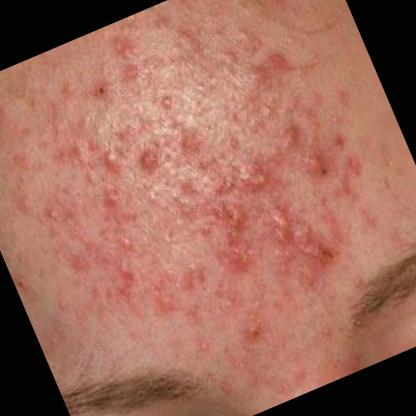Acne: (226, 147, 277, 198), (262, 196, 300, 253), (93, 140, 131, 184), (110, 222, 147, 266), (148, 82, 180, 118)
